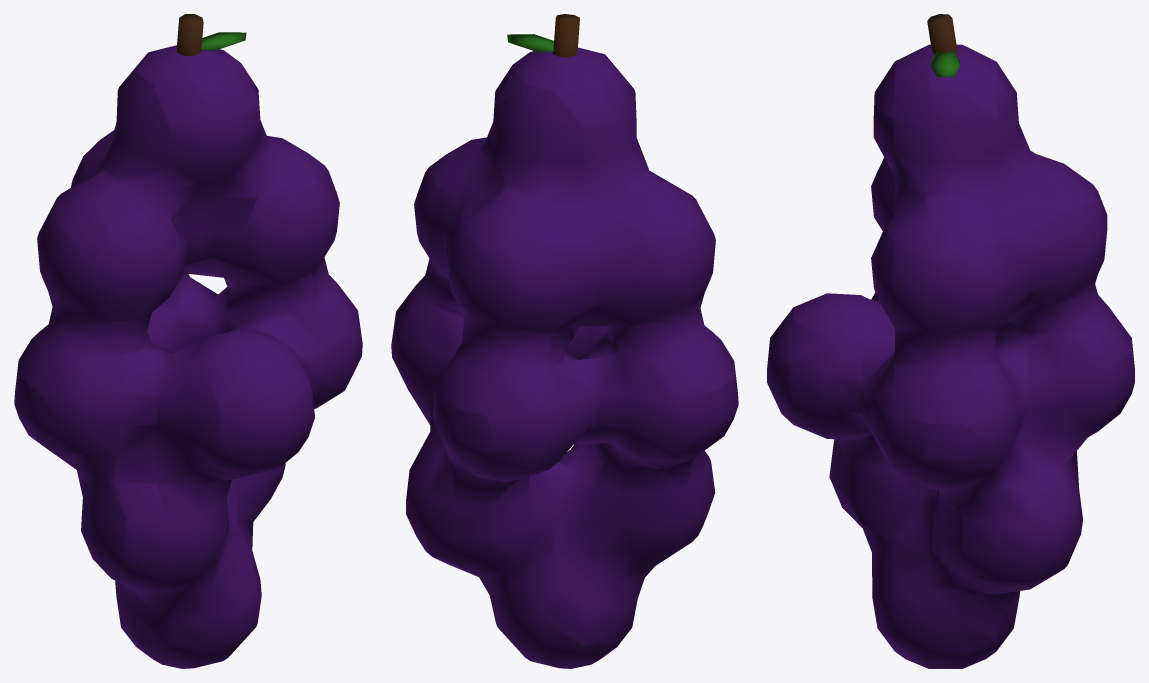
File: grape.glb
The picture shows the model from 3 angles, left to right: view 1: azimuth 30°, elevation 25°; view 2: azimuth 150°, elevation 25°; view 3: azimuth 270°, elevation 25°; orthographic projection.
Parts seen in each view (by area): view 1: grape; view 2: grape; view 3: grape.
Part boxes in pixels (bbox=[...]): grape: bbox=[14, 14, 362, 668]; grape: bbox=[391, 14, 738, 668]; grape: bbox=[767, 14, 1134, 668].
Bounding box in the file's own units: 0.5331 × 1 × 0.5181.
1 material, 1 textured.
